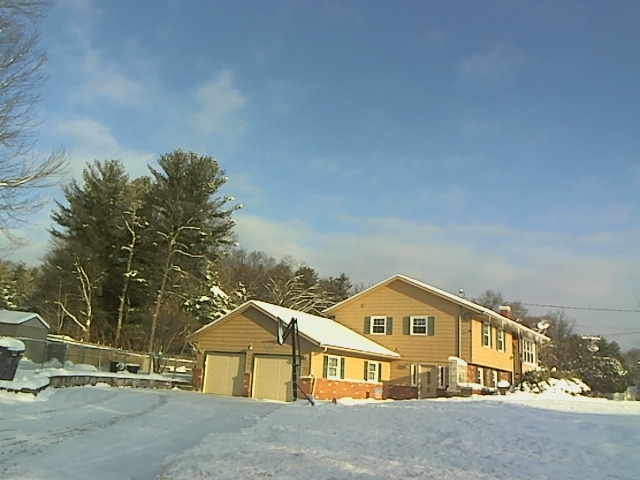Unploughed: (27, 390, 223, 466)
